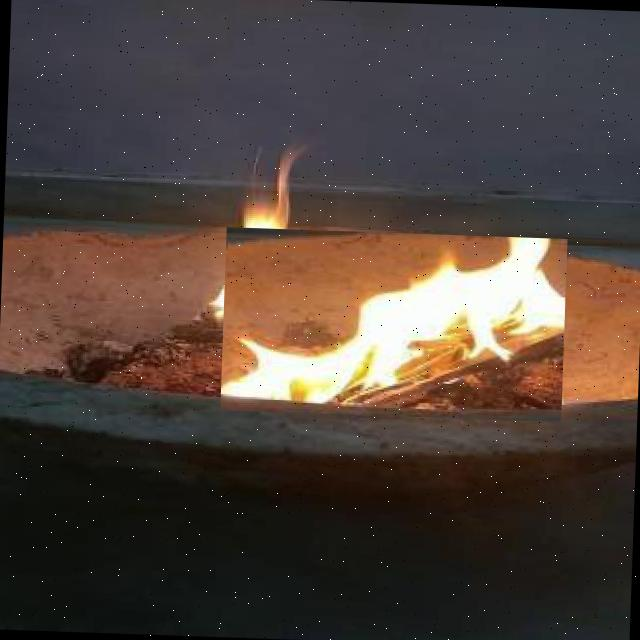fire: (220, 226, 567, 422)
